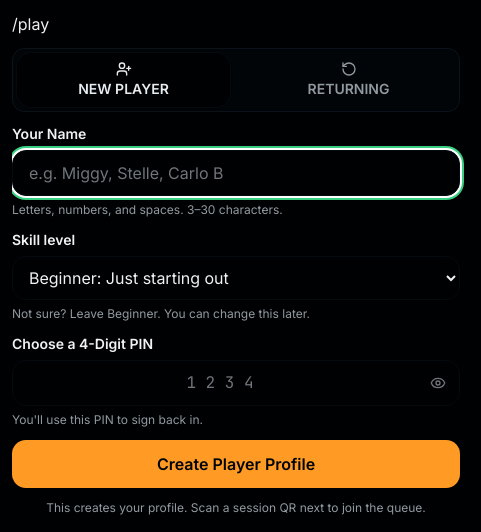
Test: LoginForm › LF-5: taken name switches to Returning and focuses PIN
The image size is (481, 532).
Type "Miggy" into the field labelled "Your Name" at (236, 173), box [12, 150, 460, 196]
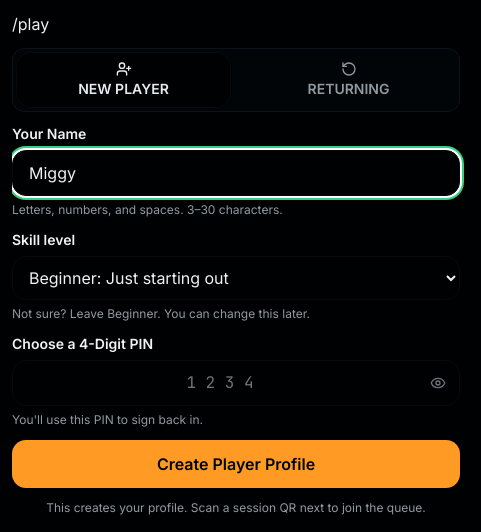
Type "1234" into the password field labelled "Choose a 4-Digit PIN" at (236, 383), box [12, 360, 460, 406]
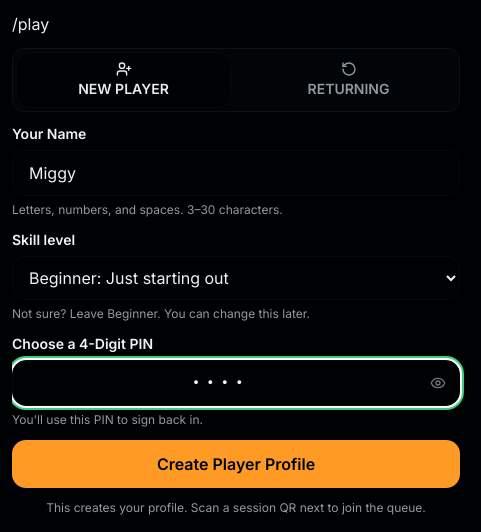
Click the button "Create Player Profile" at (236, 464), box [12, 440, 460, 488]
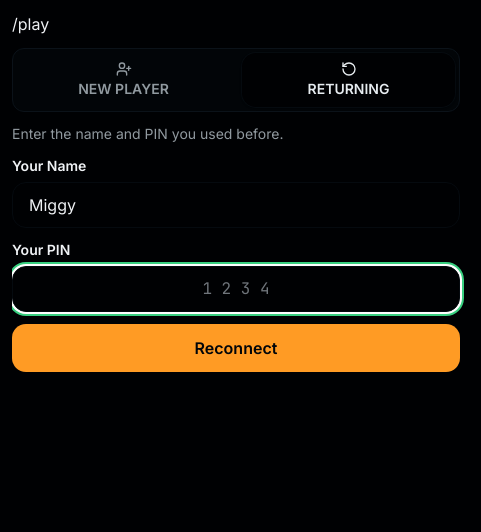
Expected: the button "Reconnect" is shown, [12, 324, 460, 372]
Expected: the field labelled "Your Name" holds "Miggy", [12, 182, 460, 228]
